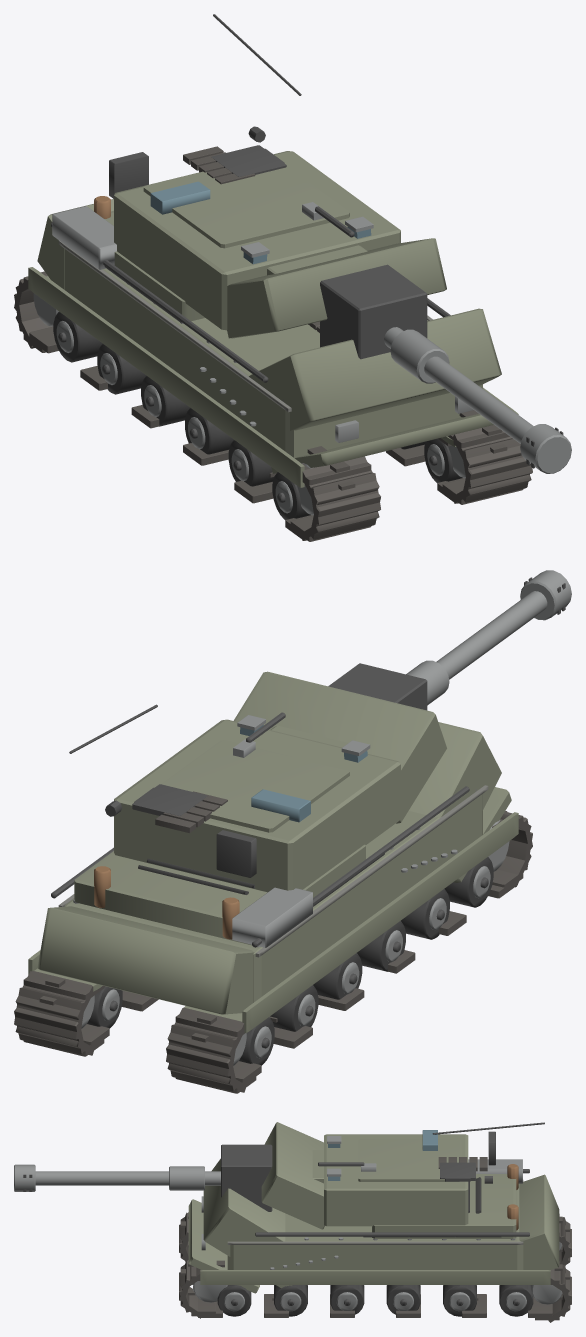
File: korshun.glb
3 views of the same model, one above another, from view 1: azimuth 30°, elevation 25°; view 2: azimuth 150°, elevation 25°; view 3: azimuth 270°, elevation 25° (orthographic). The views are drawn at different scales.
Parts seen in each view (by area): view 1: Hull, Turret, Barrel; view 2: Hull, Turret, Barrel; view 3: Hull, Turret, Barrel.
Part boxes in pixels (<box>): Hull: <box>14,196,532,541</box>; Turret: <box>109,14,446,338</box>; Barrel: <box>320,264,571,473</box>; Hull: <box>14,722,532,1093</box>; Turret: <box>69,671,446,892</box>; Barrel: <box>328,570,571,710</box>; Hull: <box>179,1158,571,1322</box>; Turret: <box>261,1122,544,1229</box>; Barrel: <box>14,1144,272,1211</box>.
Size of the model in its own units: 3.16 by 4.08 by 10.88.
